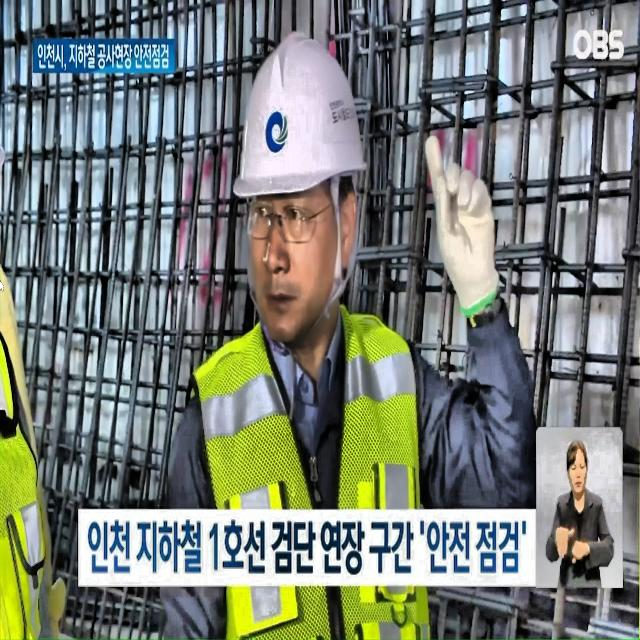safety_helmet: (228, 28, 370, 210)
safety_jacket: (195, 299, 439, 640), (0, 336, 53, 640)
